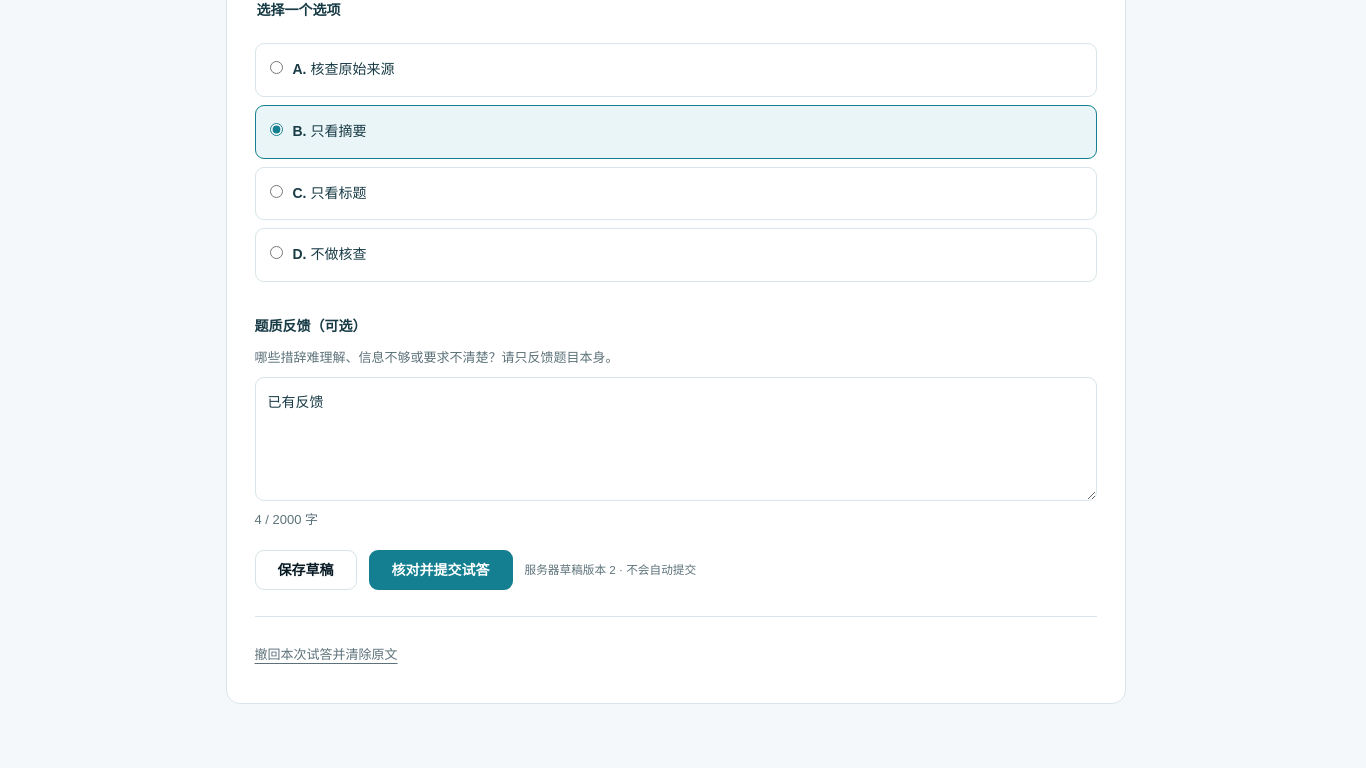
Test: learner content-quality trial › erases loaded answers, editor fields, pending payload and confirmation at the deadline
(page scrolled)
Click the button with test id "trial-prepare-submit". click: click(440, 570)
box: [368,550,512,590]
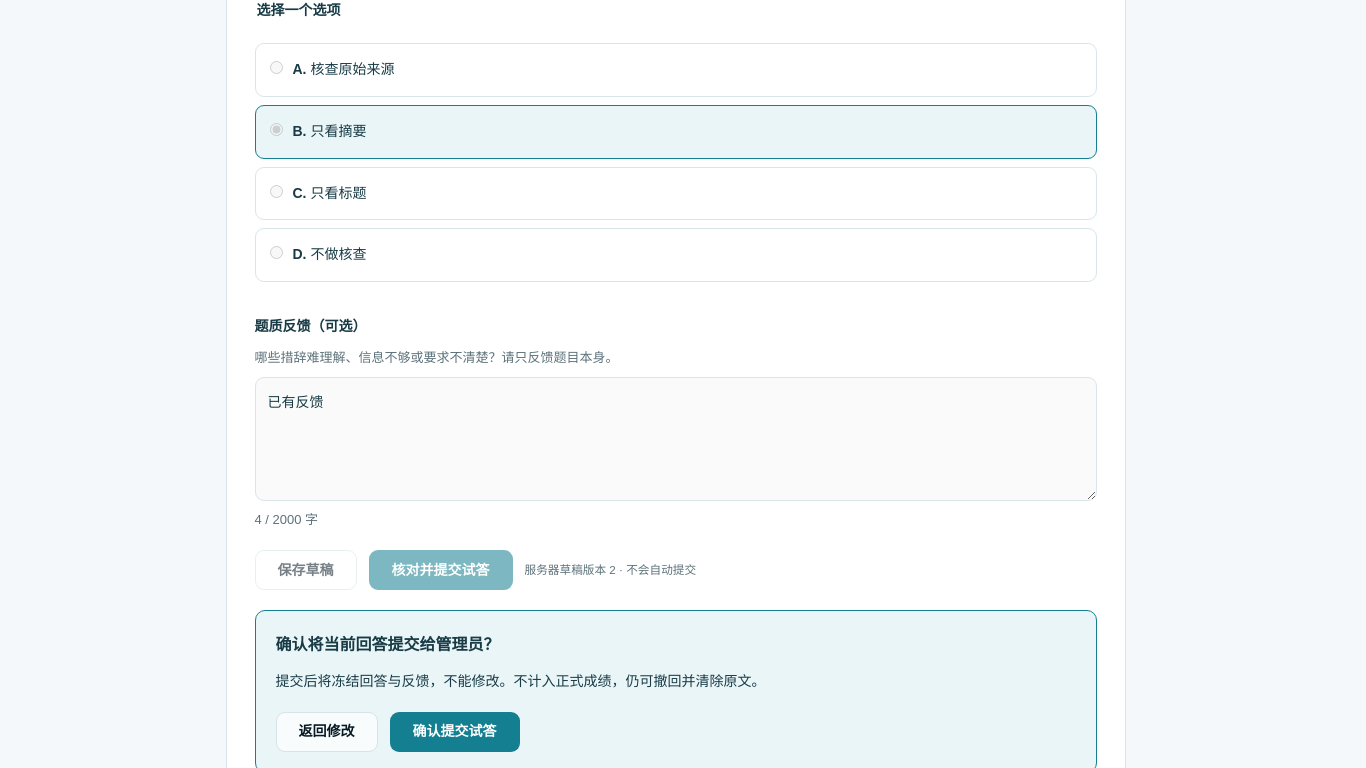
Click the button with test id "trial-confirm-submit". click: click(454, 732)
box: [390,712,520,752]
Wait 1000 ms
(page scrolled)
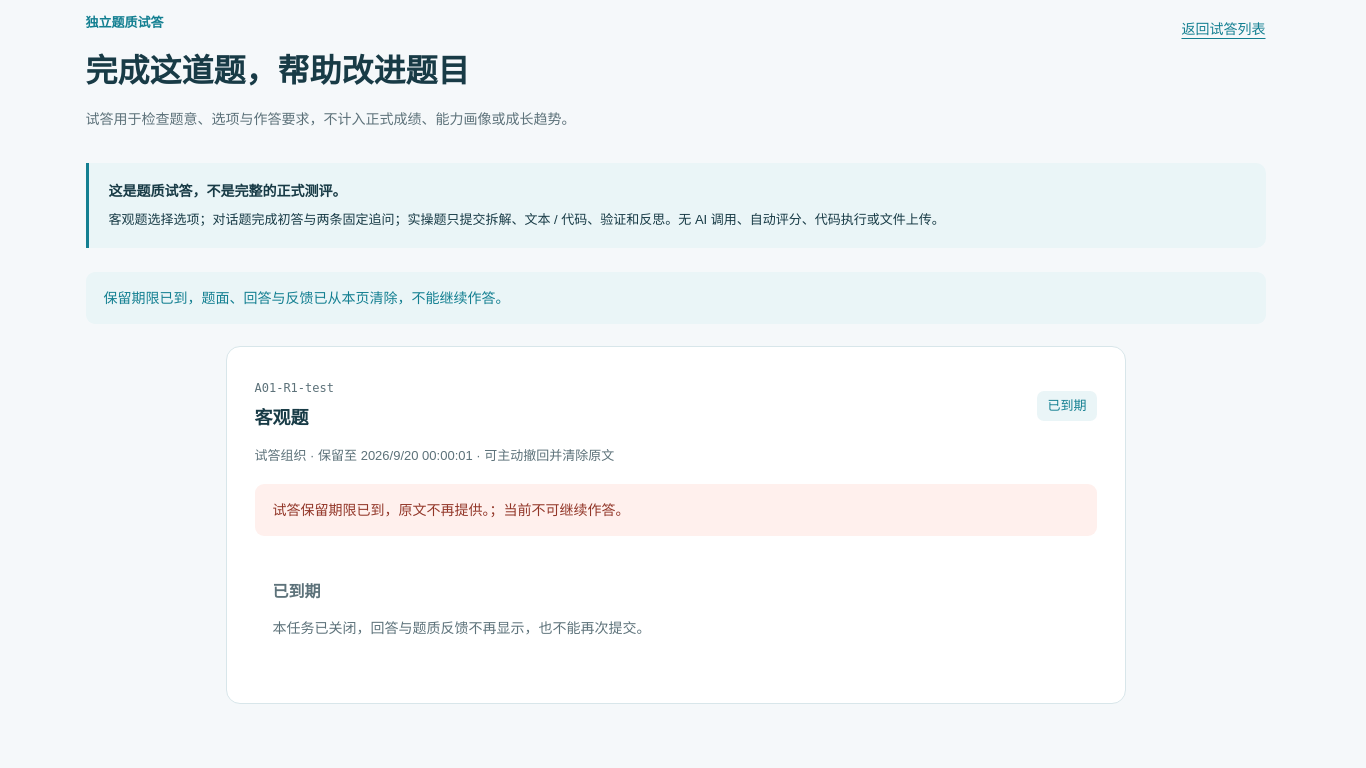
Expected: the text "已有反馈" is not shown
Expected: the text "已到期" is shown, [1038,391,1096,421]
